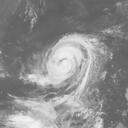cyclone: (39, 31, 103, 88)
